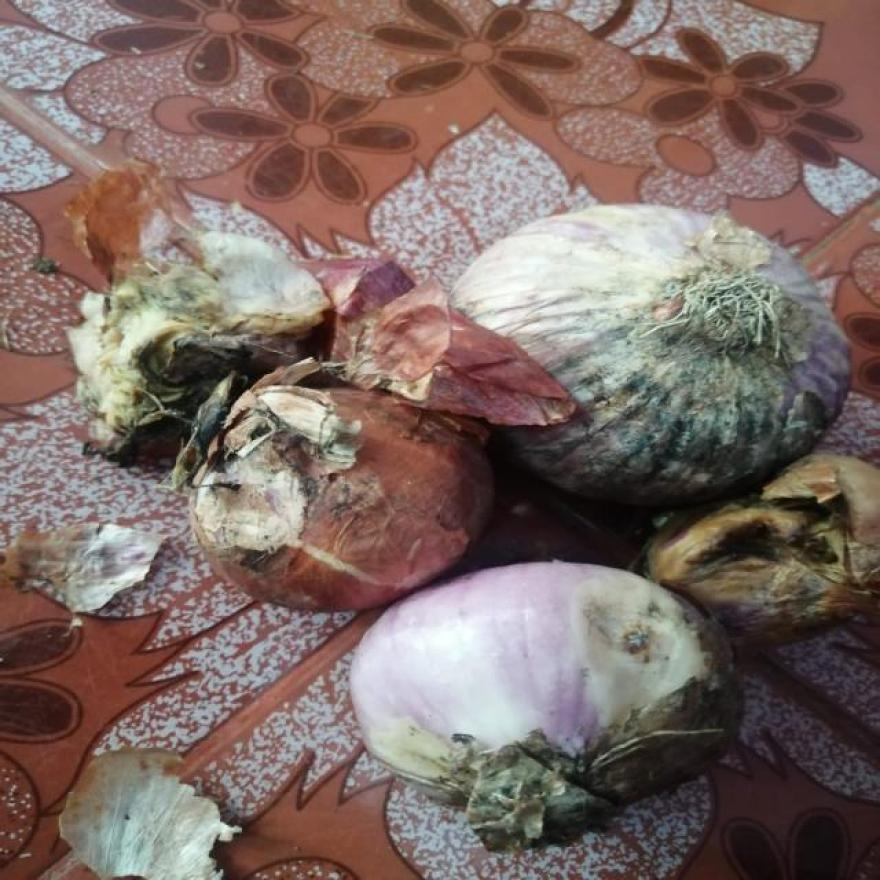Rotten: (568, 376, 819, 476), (203, 453, 333, 574), (643, 495, 837, 568), (40, 287, 212, 365), (465, 754, 594, 819)
